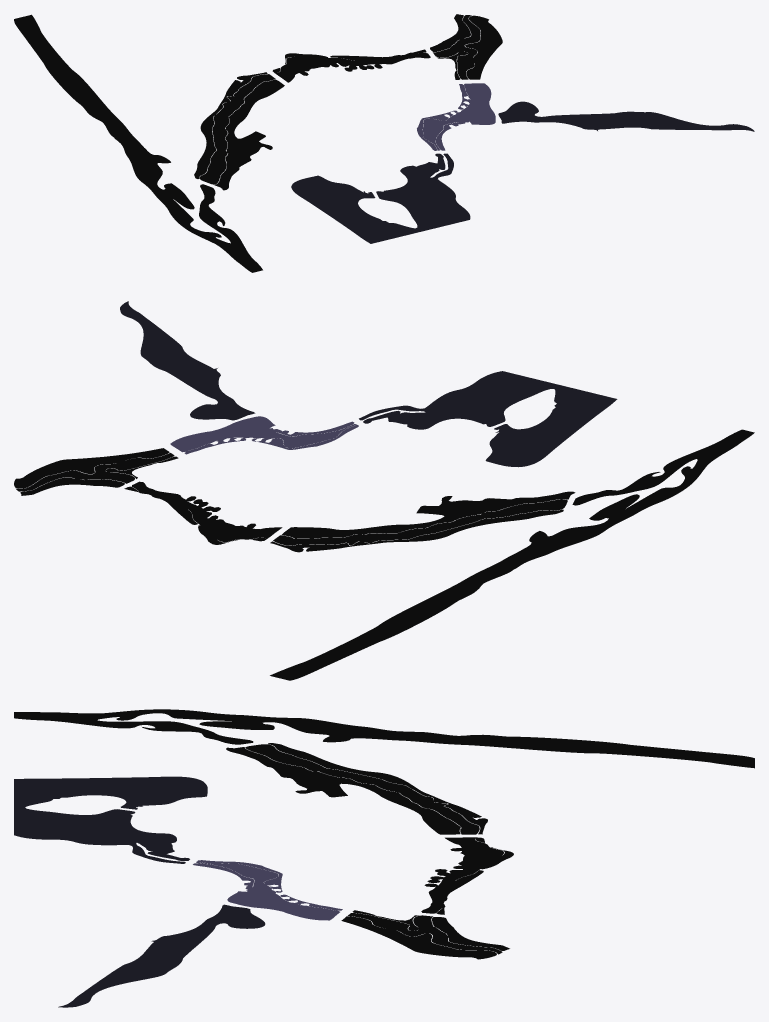
Rendered from CardMesh.fbx.
3 renders of one model, top to bottom at view 1: azimuth 30°, elevation 25°; view 2: azimuth 150°, elevation 25°; view 3: azimuth 270°, elevation 25°, orthographic. The views are drawn at different scales.
Visible parts, largest first — view 1: shema1; view 2: shema1; view 3: shema1.
Part boxes in pixels (x1,y1,x2,y2): shema1: [14, 14, 754, 272]; shema1: [14, 301, 754, 680]; shema1: [14, 709, 754, 1007].
Bounding box in the file's own units: 0.9522 × 6.12e-17 × 1.
